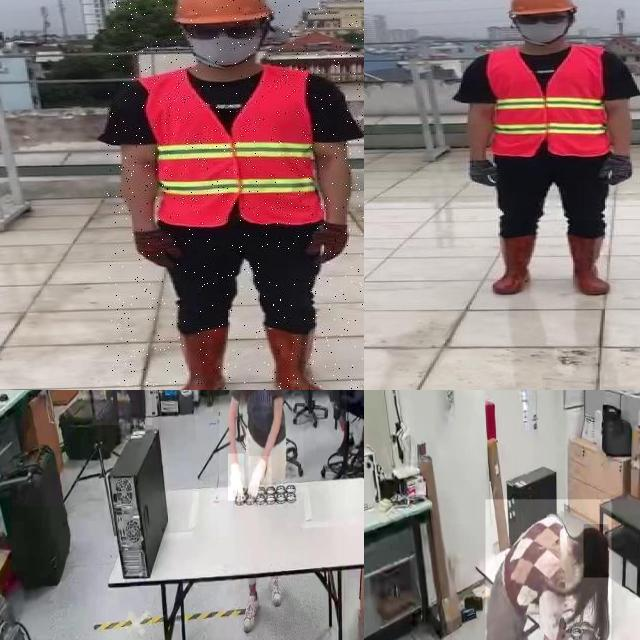boots: (262, 324, 333, 390), (171, 328, 232, 390), (564, 231, 612, 296), (490, 234, 540, 295)
hand_glove: (248, 456, 272, 504), (228, 454, 245, 502)
head_helmet: (166, 0, 286, 29), (502, 0, 577, 17)
head_nohelmet: (583, 524, 609, 578)
person: (107, 0, 364, 390), (453, 0, 640, 299), (485, 499, 612, 640), (219, 390, 304, 500), (92, 390, 152, 426)
shoes: (242, 591, 261, 634)
vest: (148, 68, 322, 228), (484, 46, 614, 159)
